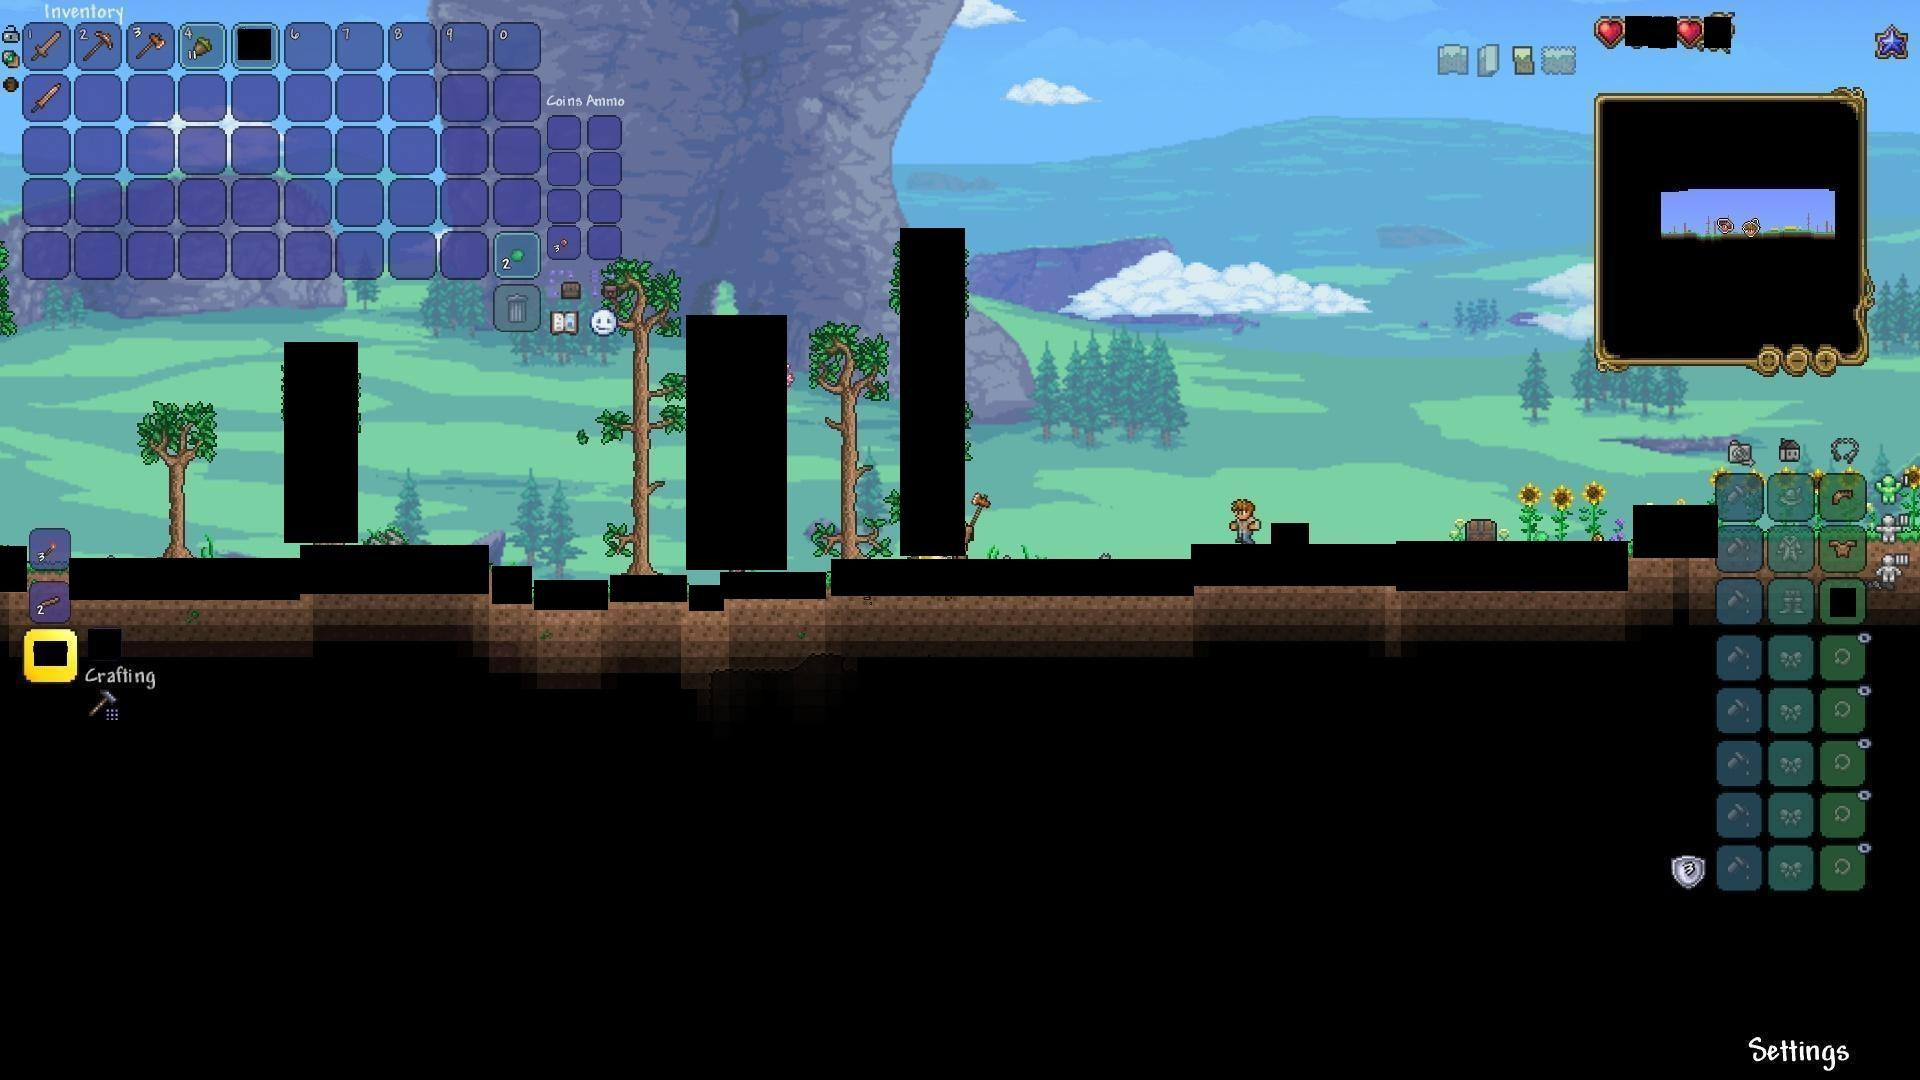breastplate: (1830, 539, 1859, 560)
heart: (1596, 15, 1625, 44), (1676, 17, 1702, 47)
helmet: (1829, 483, 1859, 509)
tree: (599, 252, 673, 571), (814, 316, 884, 556), (140, 386, 215, 553)
